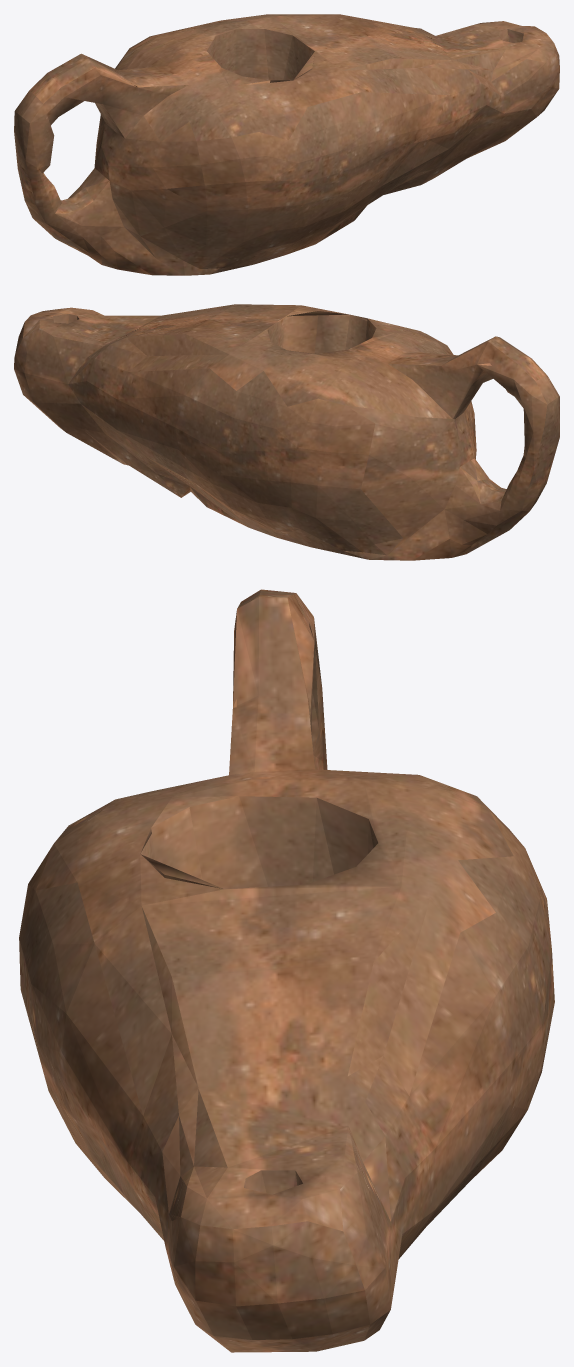
File: lamp.glb
3 views of the same model, one above another, from view 1: azimuth 30°, elevation 25°; view 2: azimuth 150°, elevation 25°; view 3: azimuth 270°, elevation 25° (orthographic). The views are drawn at different scales.
Visible parts, largest first — view 1: lamp; view 2: lamp; view 3: lamp.
Boxes of the visible parts, <box> form: lamp: <box>14,14,559,275</box>; lamp: <box>14,304,559,560</box>; lamp: <box>19,589,554,1352</box>.
Size of the model in its own units: 5.17 by 2.02 by 2.25.
Materials: 1 (1 with a texture image).
